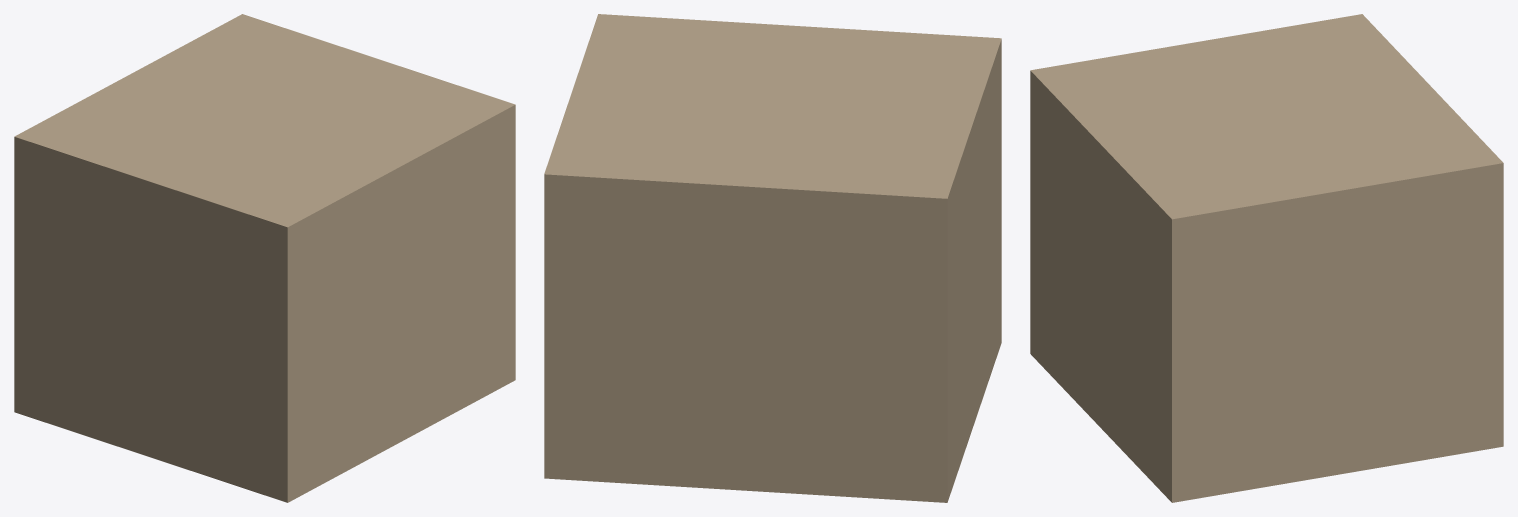
File: bld_163484326.dae
The picture shows the model from 3 angles, left to right: view 1: azimuth 30°, elevation 25°; view 2: azimuth 150°, elevation 25°; view 3: azimuth 270°, elevation 25°; orthographic projection. The views are drawn at different scales.
Parts seen in each view (by area): view 1: bld_163484326; view 2: bld_163484326; view 3: bld_163484326.
Part boxes in pixels (bbox=[...]): bld_163484326: bbox=[14, 14, 515, 502]; bld_163484326: bbox=[544, 14, 1001, 502]; bld_163484326: bbox=[1030, 14, 1503, 502].
Size of the model in its own units: 12.42 by 12.1 by 8.
